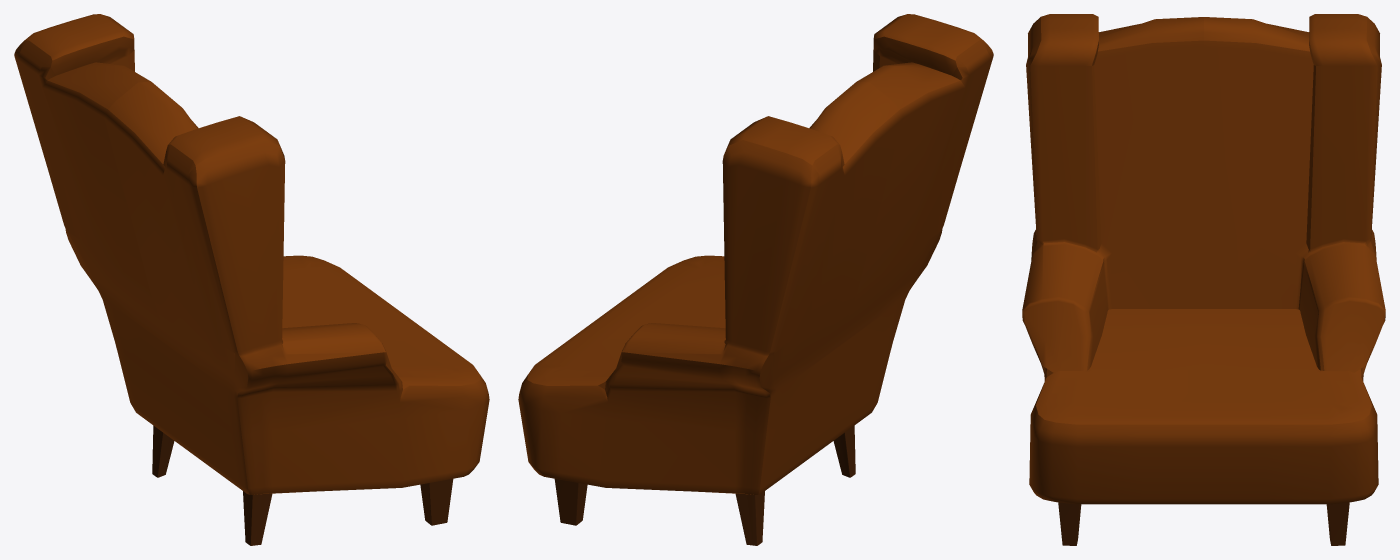
The model's file is Armchair.fbx.
3 renders of one model, left to right at view 1: azimuth 30°, elevation 25°; view 2: azimuth 150°, elevation 25°; view 3: azimuth 270°, elevation 25°, orthographic. The views are drawn at different scales.
Visible parts, largest first — view 1: pCube24; view 2: pCube24; view 3: pCube24.
Boxes of the visible parts, x1,y1,x2,y2 form: pCube24: (14,14,489,545); pCube24: (518,14,993,545); pCube24: (1022,14,1385,545).
Size of the model in its own units: 138 by 187 by 147.
Materials: 1 (1 with a texture image).
